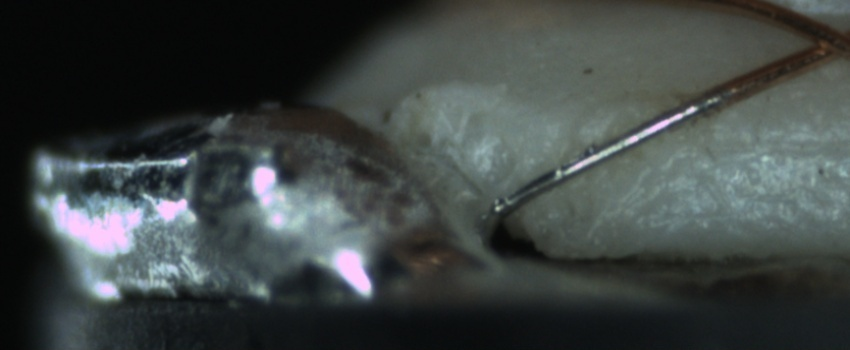CL: (791, 15, 850, 69)
DL: (670, 115, 849, 179)
TS: (496, 91, 723, 217)
